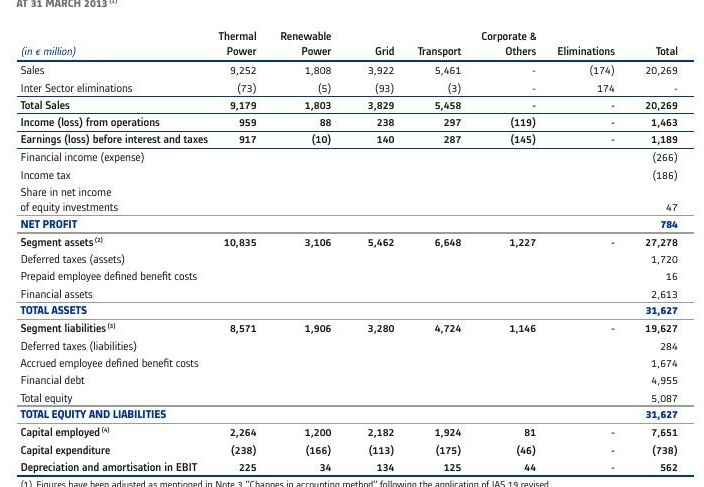table: (0, 0, 704, 487)
